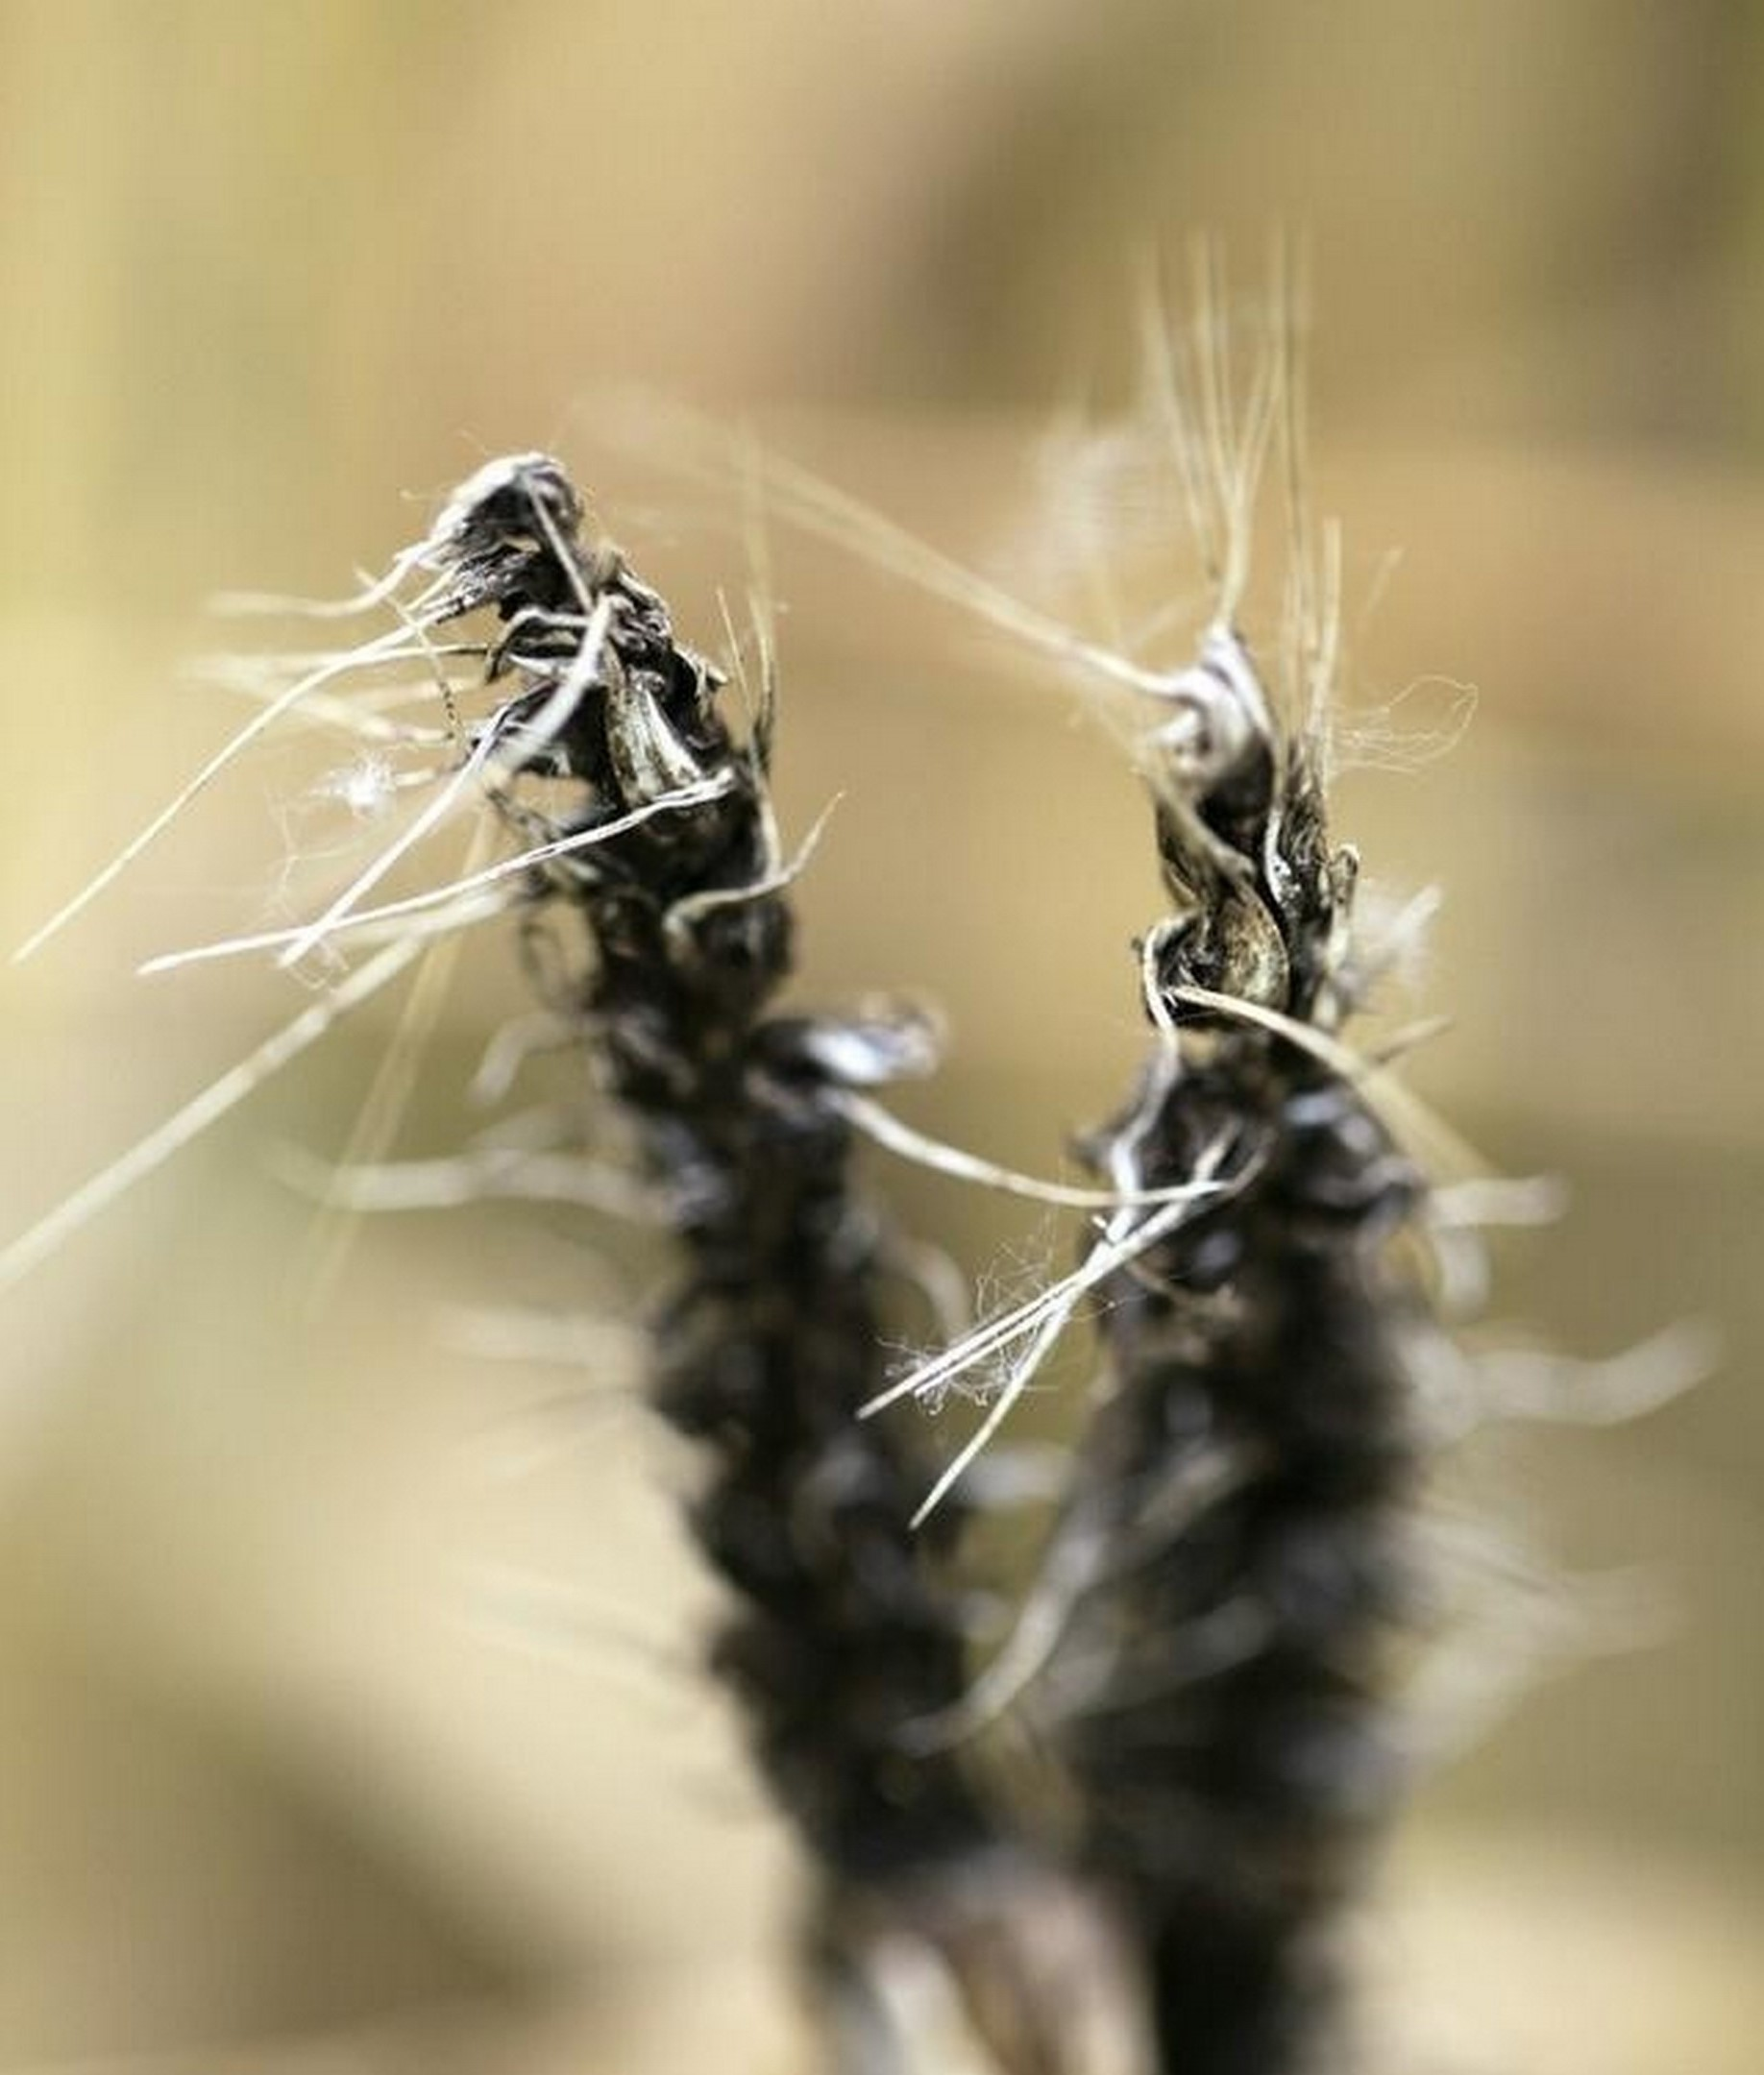Wheat Loose Smut: (395, 401, 1423, 1982)
